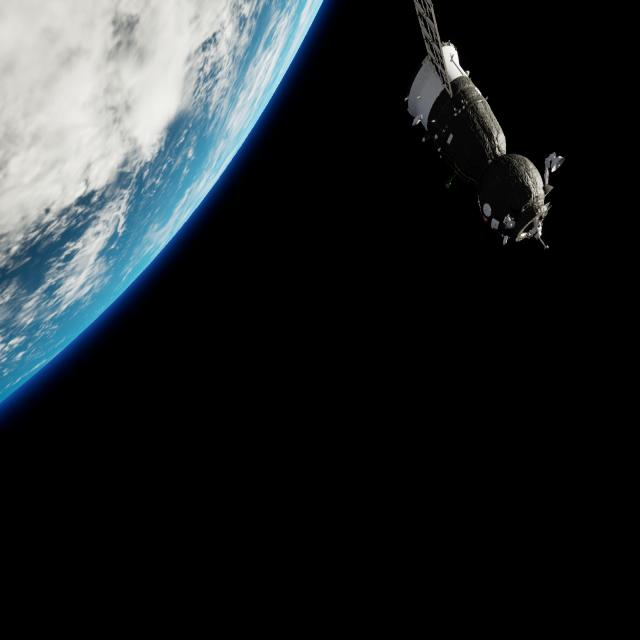Satellites revolving around earth: (403, 38, 565, 253)
